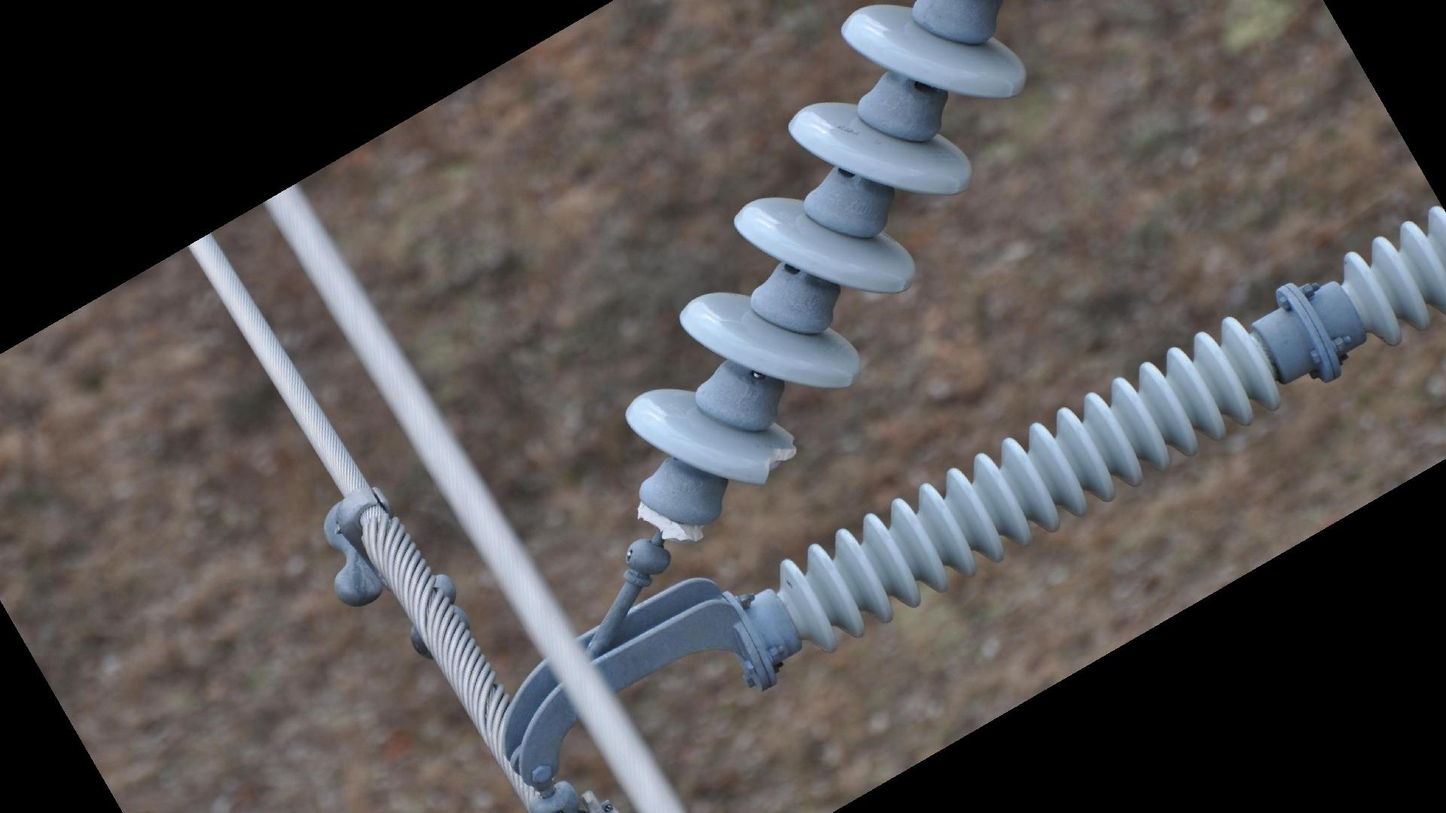insulator: (618, 1, 1033, 494), (772, 308, 1283, 660), (1336, 203, 1446, 351)
insulator_breakage: (751, 425, 806, 487)
